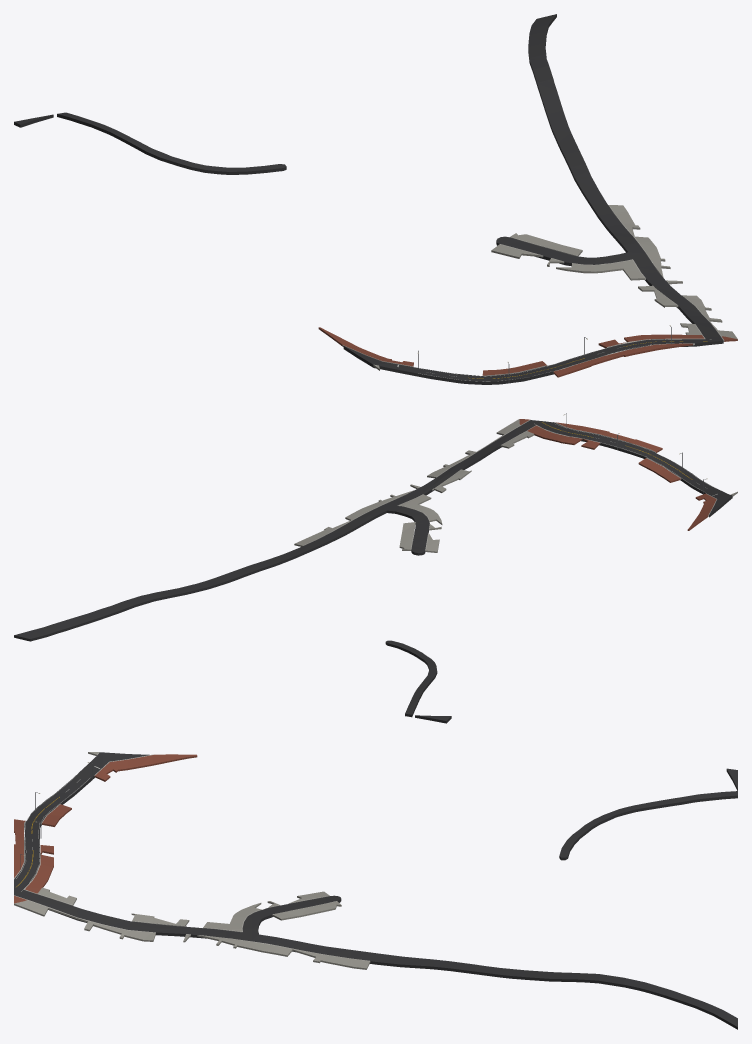
3 renders of one model, top to bottom at view 1: azimuth 30°, elevation 25°; view 2: azimuth 150°, elevation 25°; view 3: azimuth 270°, elevation 25°, orthographic. The views are drawn at different scales.
Size of the model in its own units: 224 by 23.12 by 291.
